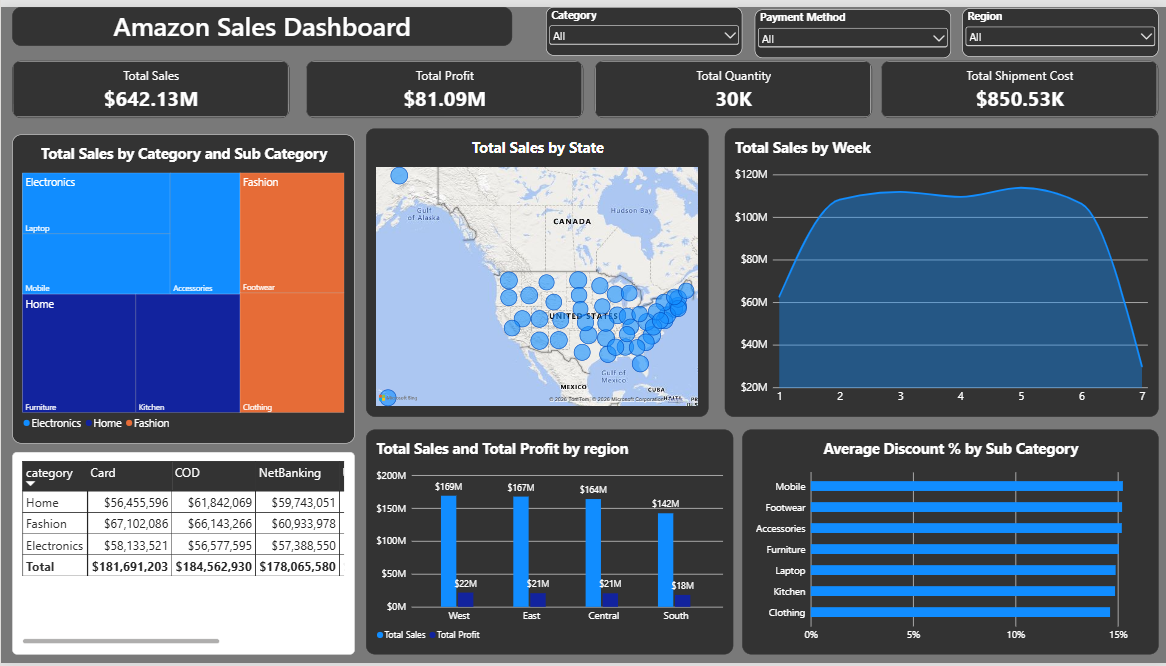

The page's visual inventory and layout, read from the dashboard file:
{"tool":"powerbi","page":{"name":"Page 1","canvas":[1920,1080],"ordinal":0},"visuals":[{"type":"cardVisual","fields":{"Data":["Sales.Total Sales"]},"box":[18.5,88.5,456.9,94.7],"z":0},{"type":"cardVisual","fields":{"Data":["Sales.Total Profit"]},"box":[502.2,88.5,456.9,94.7],"z":1000},{"type":"cardVisual","fields":{"Data":["Sales.Total Quantity"]},"box":[977.7,88.5,456.9,94.7],"z":2000},{"type":"cardVisual","fields":{"Data":["Sales.Total Shipment Cost"]},"box":[1449.1,88.5,456.9,94.7],"z":3000},{"type":"treemap","title":"Total Sales by Category and Sub Category","fields":{"Details":["Sales.sub_category"],"Group":["Sales.category"],"Values":["Sales.Total Sales"]},"box":[18.5,209.9,564,508.4],"z":4000},{"type":"pivotTable","fields":{"Columns":["Sales.payment_method"],"Rows":["Sales.category"],"Values":["Sales.Total Sales + Profit"]},"box":[18.5,732.8,564,333.4],"z":5000},{"type":"clusteredColumnChart","fields":{"Category":["DimRegion.region"],"Y":["Sales.Total Sales","Sales.Total Profit"]},"box":[601,695.7,605.1,370.5],"z":6000},{"type":"areaChart","title":"Total Sales by Week","fields":{"Category":["DimDate.Week No"],"Y":["Sales.Total Sales"]},"box":[1191.8,199.7,714.2,475.5],"z":7000},{"type":"map","title":"Total Sales by State","fields":{"Category":["DimRegion.state"],"Size":["Sales.Total Sales"]},"box":[601,199.7,564,475.5],"z":8000},{"type":"clusteredBarChart","title":"Average Discount % by Sub Category","fields":{"Category":["Sales.sub_category"],"Y":["Sales.Average Discount %"]},"box":[1220.6,695.7,685.4,370.5],"z":9000},{"type":"slicer","fields":{"Values":["Sales.category"]},"box":[897.4,0,323.2,80.3],"z":10000},{"type":"textbox","box":[18.5,0,823.3,63.8],"z":11000},{"type":"slicer","fields":{"Values":["Sales.payment_method"]},"box":[1241.2,4.1,323.2,80.3],"z":12000},{"type":"slicer","fields":{"Values":["DimRegion.region"]},"box":[1582.9,2.1,323.2,80.3],"z":13000}]}

Visuals, with their boxes in screenshot pixels (x1, y1, x2, y2), scaled from the page's 1920x1080 canvas onto the 1166x666 screenshot:
cardVisual - Sales.Total Sales: 11:55:289:113
cardVisual - Sales.Total Profit: 305:55:582:113
cardVisual - Sales.Total Quantity: 594:55:871:113
cardVisual - Sales.Total Shipment Cost: 880:55:1157:113
"Total Sales by Category and Sub Category" treemap: 11:129:354:443
pivotTable - Sales.payment_method x Sales.category: 11:452:354:657
clusteredColumnChart - DimRegion.region x Sales.Total Sales: 365:429:732:657
"Total Sales by Week" areaChart: 724:123:1157:416
"Total Sales by State" map: 365:123:707:416
"Average Discount % by Sub Category" clusteredBarChart: 741:429:1157:657
slicer - Sales.category: 545:0:741:50
textbox: 11:0:511:39
slicer - Sales.payment_method: 754:3:950:52
slicer - DimRegion.region: 961:1:1158:51
